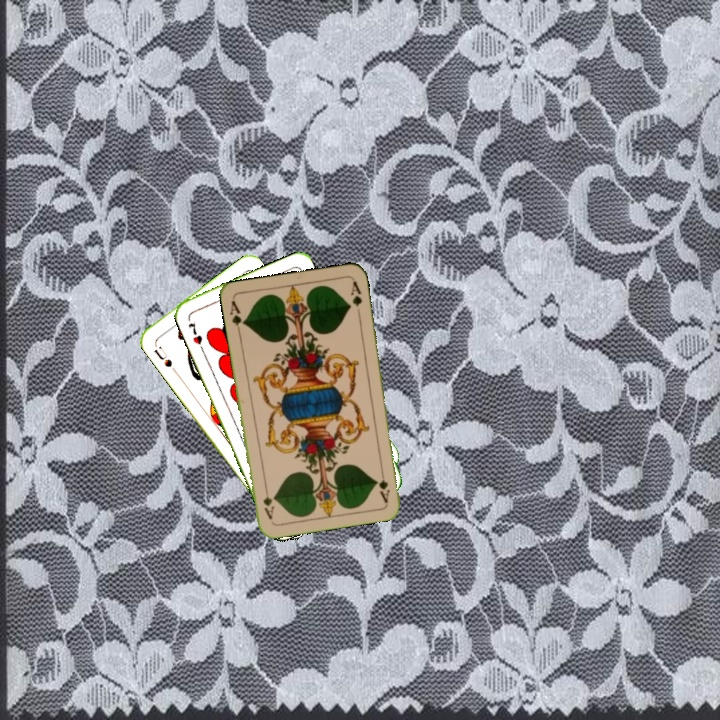GA: (226, 296, 248, 337), (375, 464, 392, 505)
H7: (184, 319, 205, 347)
SU: (150, 339, 175, 370)
